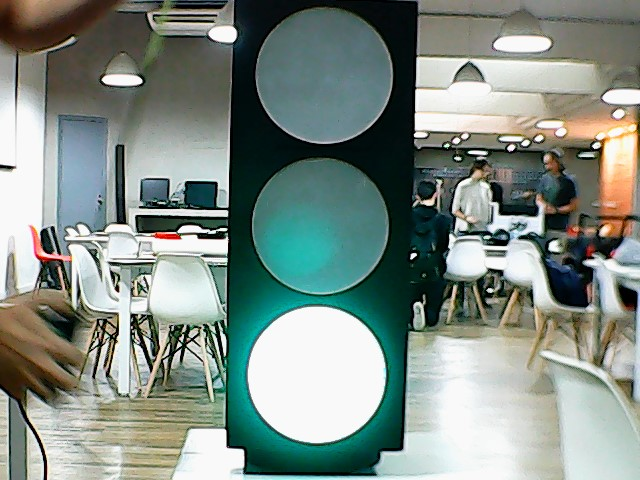verde: (229, 1, 420, 464)
